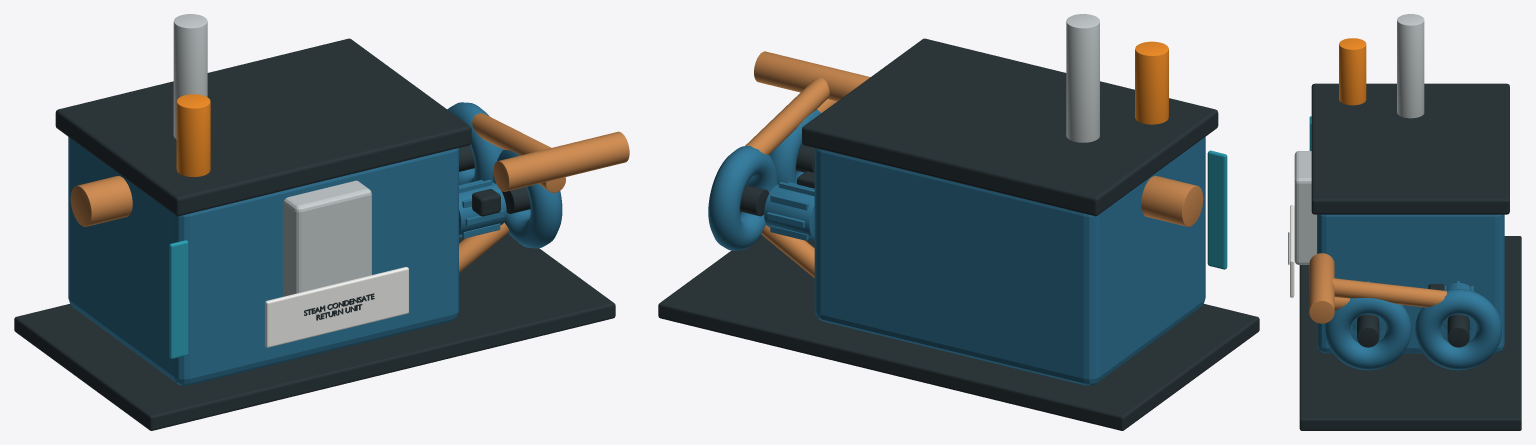
Rendered from condensate_return_unit.glb.
The picture shows the model from 3 angles, left to right: view 1: azimuth 30°, elevation 25°; view 2: azimuth 150°, elevation 25°; view 3: azimuth 270°, elevation 25°; orthographic projection. The views are drawn at different scales.
Visible parts, largest first — view 1: VENTED_RECEIVER_TANK, RECEIVER_TOP, BASE, LEVEL_CONTROL, RETURN_NAMEPLATE, COMMON_DISCHARGE, ATMOSPHERIC_VENT, FLOAT_LEVEL_SWITCH, CENTRIFUGAL_VOLUTE_0, CONDENSATE_INLET, LEVEL_SIGHT_GLASS, CENTRIFUGAL_VOLUTE_1 (+6 smaller); view 2: VENTED_RECEIVER_TANK, RECEIVER_TOP, BASE, CENTRIFUGAL_VOLUTE_1, ATMOSPHERIC_VENT, COMMON_DISCHARGE, FLOAT_LEVEL_SWITCH, CONDENSATE_INLET, LEVEL_SIGHT_GLASS, PUMP_DISCHARGE_1, KIN_PUMP_0.98, CENTRIFUGAL_VOLUTE_0 (+2 smaller); view 3: RECEIVER_TOP, BASE, VENTED_RECEIVER_TANK, CENTRIFUGAL_VOLUTE_1, CENTRIFUGAL_VOLUTE_0, ATMOSPHERIC_VENT, LEVEL_CONTROL, PUMP_DISCHARGE_1, FLOAT_LEVEL_SWITCH, COMMON_DISCHARGE, PUMP_HUB_1, PUMP_HUB_0 (+2 smaller).
Boxes of the visible parts, x1,y1,x2,y2 form: VENTED_RECEIVER_TANK: [68, 137, 458, 385]; RECEIVER_TOP: [55, 38, 471, 216]; BASE: [14, 233, 615, 430]; LEVEL_CONTROL: [283, 180, 371, 296]; RETURN_NAMEPLATE: [265, 267, 408, 347]; COMMON_DISCHARGE: [493, 131, 629, 191]; ATMOSPHERIC_VENT: [173, 14, 207, 139]; FLOAT_LEVEL_SWITCH: [176, 94, 210, 176]; CENTRIFUGAL_VOLUTE_0: [493, 149, 562, 248]; CONDENSATE_INLET: [70, 176, 132, 226]; LEVEL_SIGHT_GLASS: [169, 240, 188, 358]; CENTRIFUGAL_VOLUTE_1: [447, 102, 503, 185]; VENTED_RECEIVER_TANK: [814, 137, 1205, 385]; RECEIVER_TOP: [802, 38, 1218, 216]; BASE: [658, 235, 1259, 430]; CENTRIFUGAL_VOLUTE_1: [708, 146, 777, 250]; ATMOSPHERIC_VENT: [1066, 14, 1099, 142]; COMMON_DISCHARGE: [754, 51, 870, 101]; FLOAT_LEVEL_SWITCH: [1135, 41, 1168, 124]; CONDENSATE_INLET: [1141, 176, 1203, 226]; LEVEL_SIGHT_GLASS: [1207, 150, 1227, 269]; PUMP_DISCHARGE_1: [745, 78, 829, 154]; KIN_PUMP_0.98: [764, 184, 814, 238]; CENTRIFUGAL_VOLUTE_0: [769, 109, 821, 184]; RECEIVER_TOP: [1311, 83, 1509, 214]; BASE: [1299, 236, 1521, 430]; VENTED_RECEIVER_TANK: [1317, 214, 1504, 353]; CENTRIFUGAL_VOLUTE_1: [1415, 289, 1502, 370]; CENTRIFUGAL_VOLUTE_0: [1324, 298, 1411, 370]; ATMOSPHERIC_VENT: [1397, 14, 1424, 118]; LEVEL_CONTROL: [1294, 151, 1316, 264]; PUMP_DISCHARGE_1: [1331, 278, 1446, 307]; FLOAT_LEVEL_SWITCH: [1339, 38, 1366, 105]; COMMON_DISCHARGE: [1309, 253, 1334, 323]; PUMP_HUB_1: [1447, 314, 1469, 347]; PUMP_HUB_0: [1357, 314, 1379, 347].
Size of the model in its own units: 2.66 by 1.75 by 1.37.
